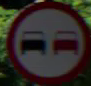No overtake: (6, 8, 83, 72)
